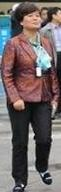boots: (38, 168, 52, 184), (13, 182, 25, 192)
